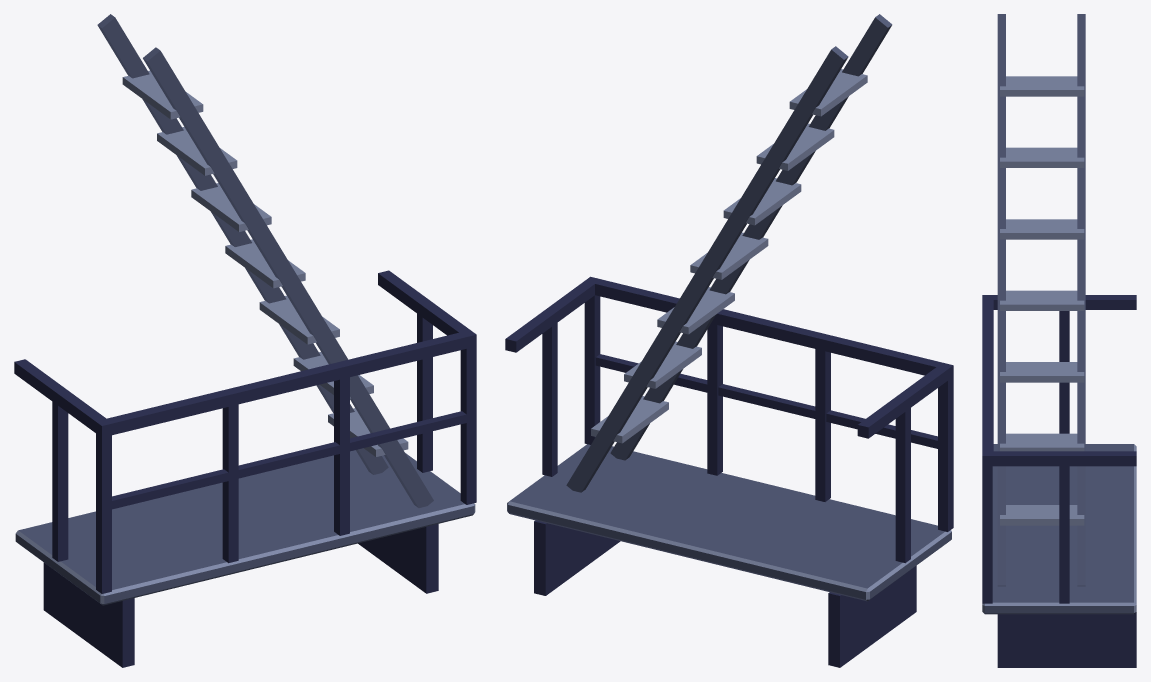
Rendered from FireEscape_8x10.fbx.
3 renders of one model, left to right at view 1: azimuth 30°, elevation 25°; view 2: azimuth 150°, elevation 25°; view 3: azimuth 270°, elevation 25°, orthographic. The views are drawn at different scales.
Parts seen in each view (by area): view 1: FireEscape_8x10; view 2: FireEscape_8x10; view 3: FireEscape_8x10.
Part boxes in pixels (x1,y1,x2,y2): FireEscape_8x10: (14, 14, 476, 667); FireEscape_8x10: (505, 14, 953, 667); FireEscape_8x10: (982, 14, 1136, 667).
Size of the model in its own units: 7.4 by 11.47 by 3.
Materials: 1 (1 with a texture image).
